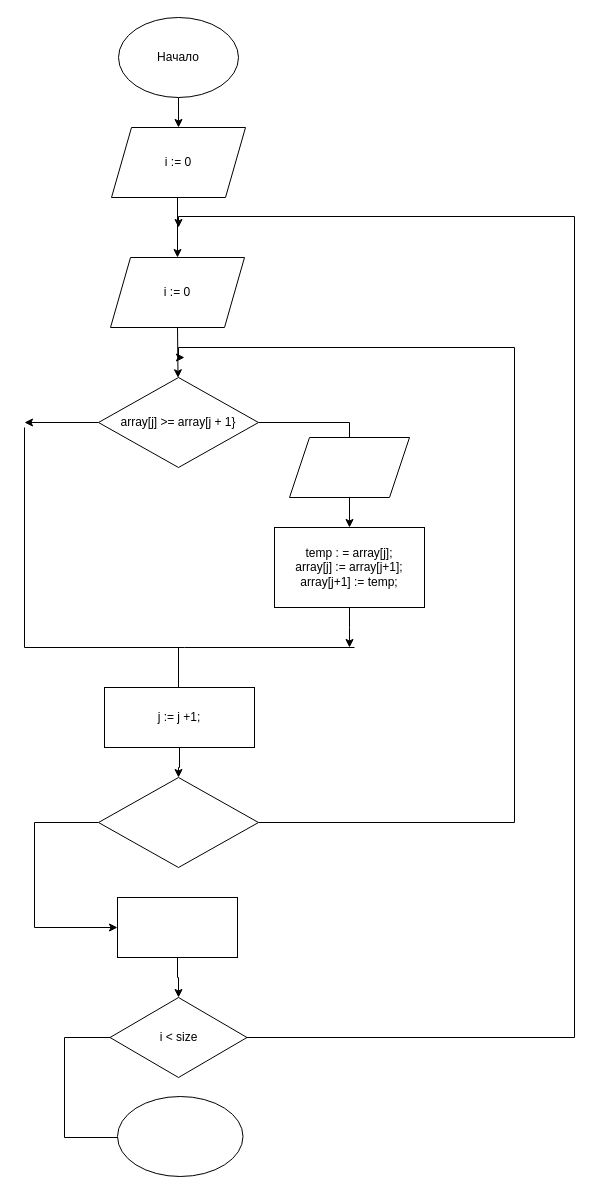
This 600x1194 diagram has some shape labels left out. The shapes that lost their labels are listed below. From the top down, each one's centre as x and y in pixels, then its label:
the point at 349,467: temp
the point at 178,822: j < = size - i- 1
the point at 177,927: i := i +1
the point at 179,1136: конец
